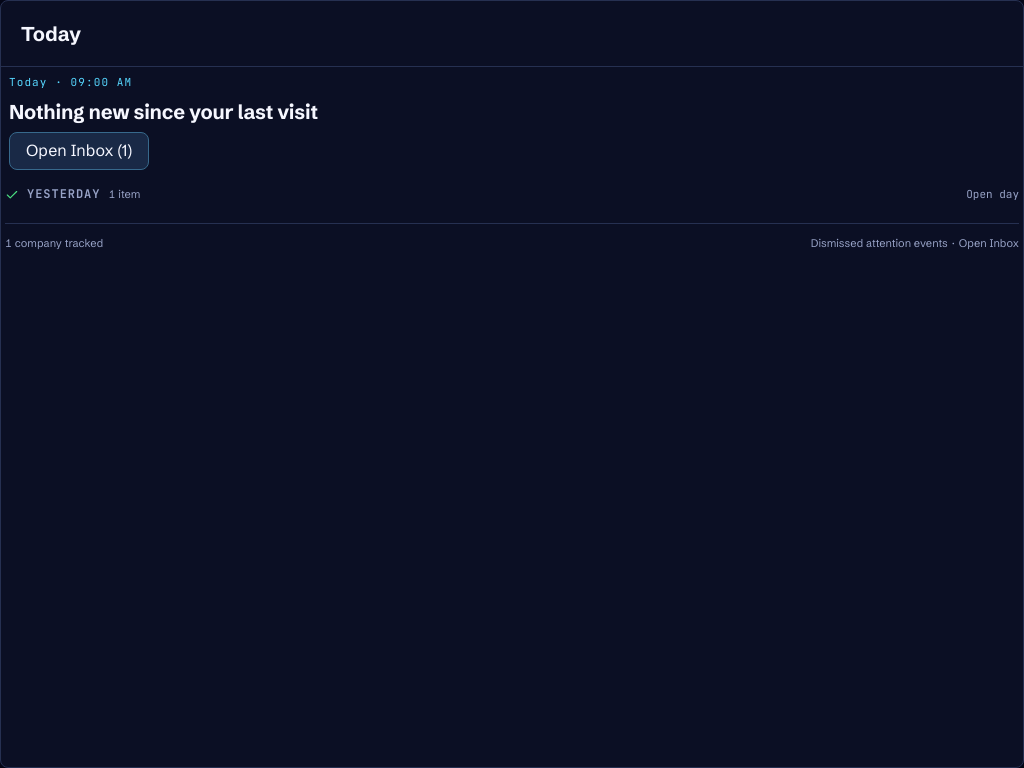
Scenario: TodayScreen › Collapse: an all-seen day renders collapsed, and Open day expands it
The image size is (1024, 768).
Check: the text "Yesterday" is shown, box [27,186,100,203]
Check: the text "Zawiadomienie o transakcji" is not shown
Click the button "Open day" at (993, 195), box [966,187,1019,203]
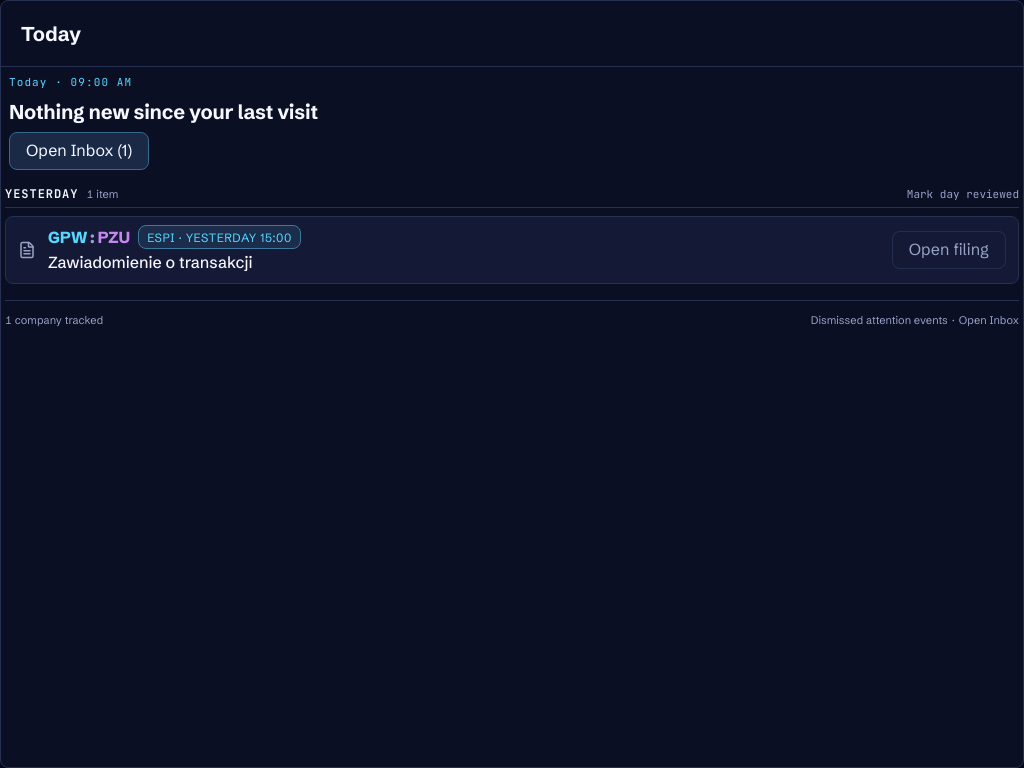
Check: the text "Zawiadomienie o transakcji" is shown, box [48,252,252,272]
